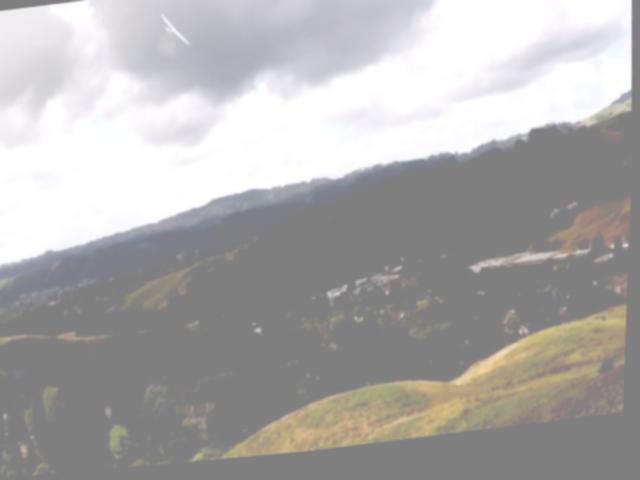iha: (160, 9, 192, 53)
